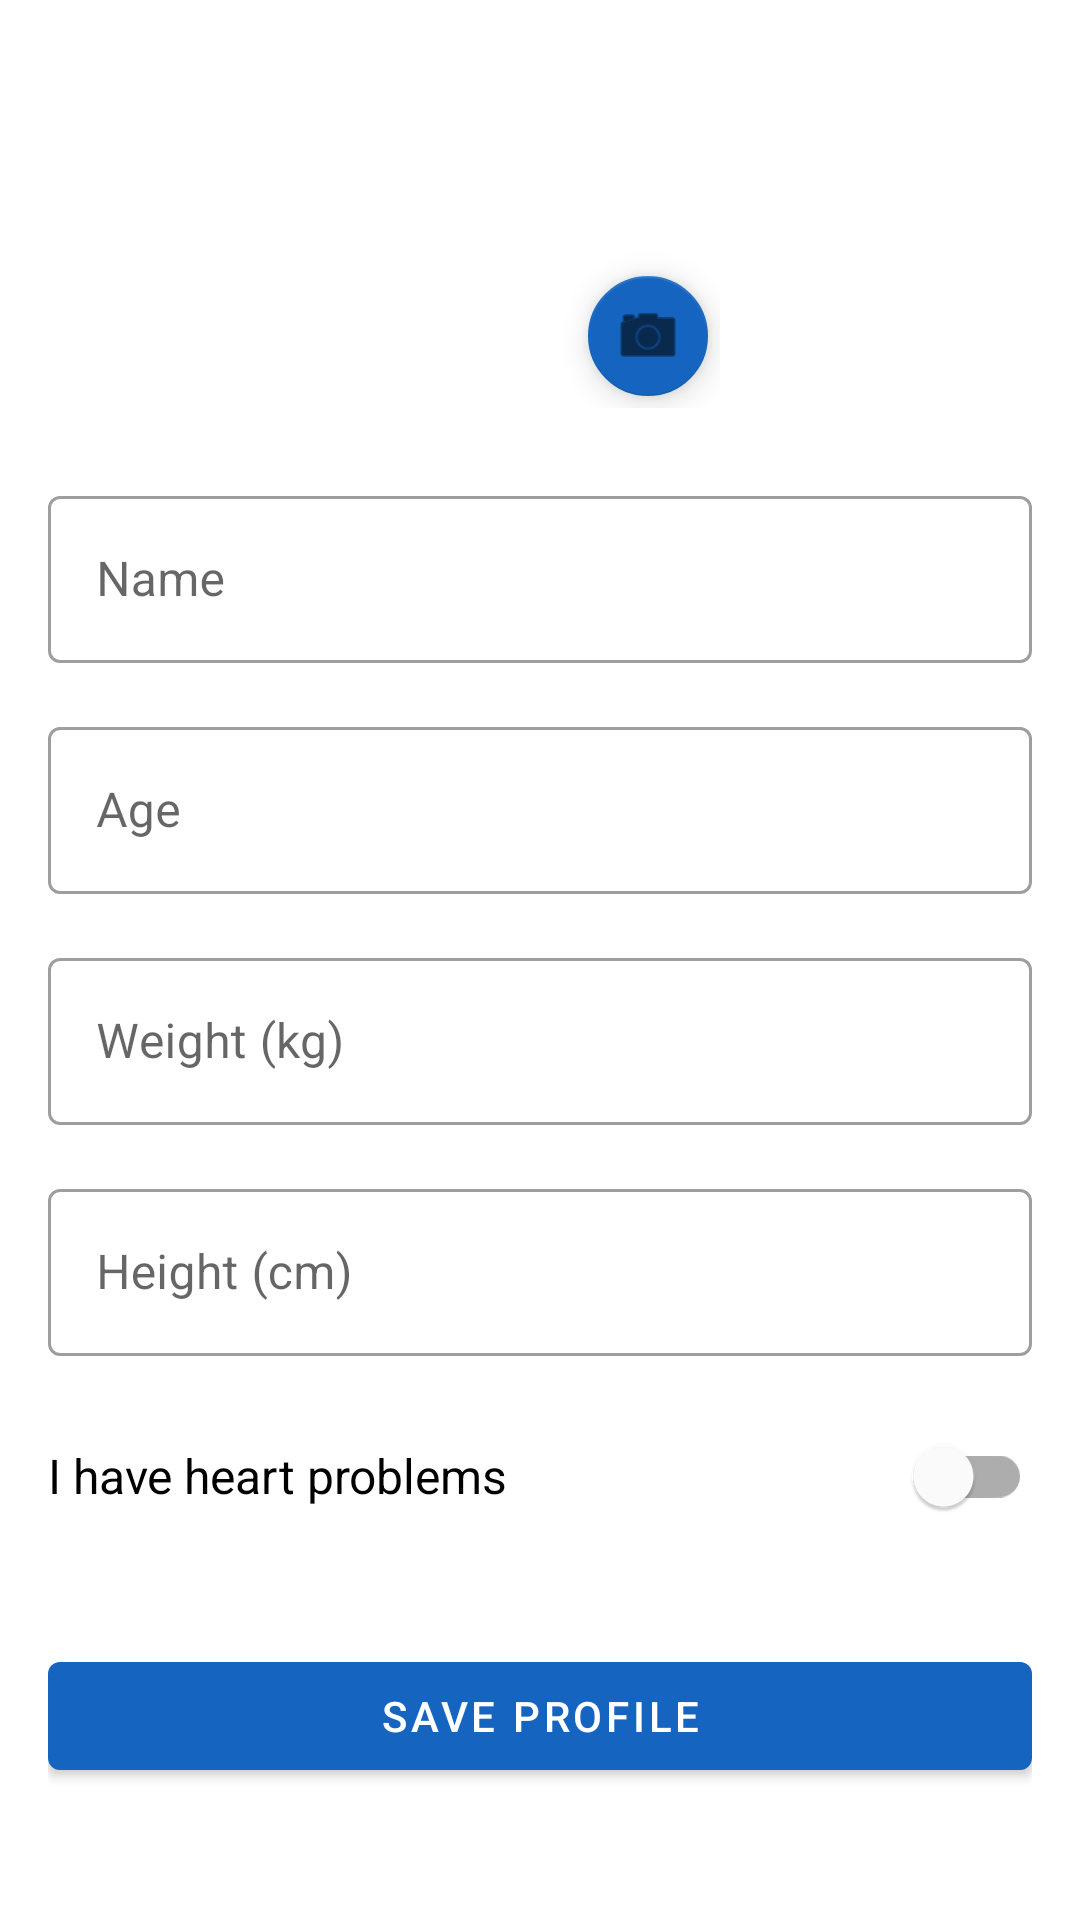

Named icons in this screenshot (1080px x 1920px) and their bounding boxes, (left=x1, top=y1, right=x2, bottom=y2):
Change photo: (left=588, top=276, right=708, bottom=398)
